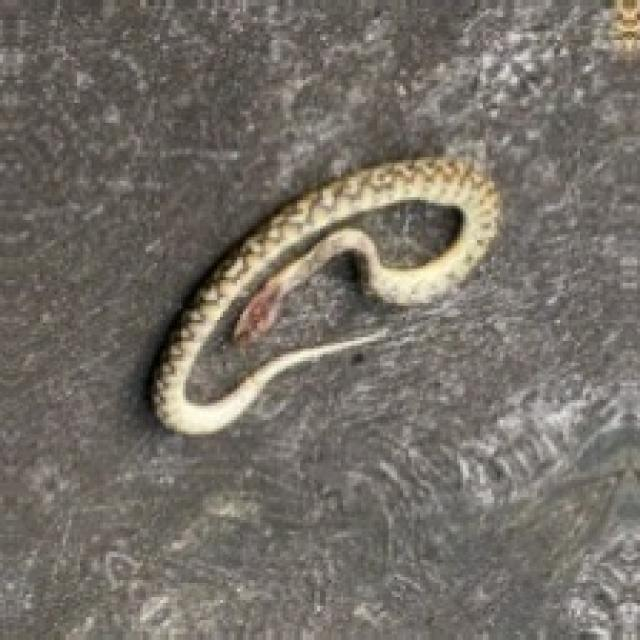reticulated python: (151, 157, 497, 431)
